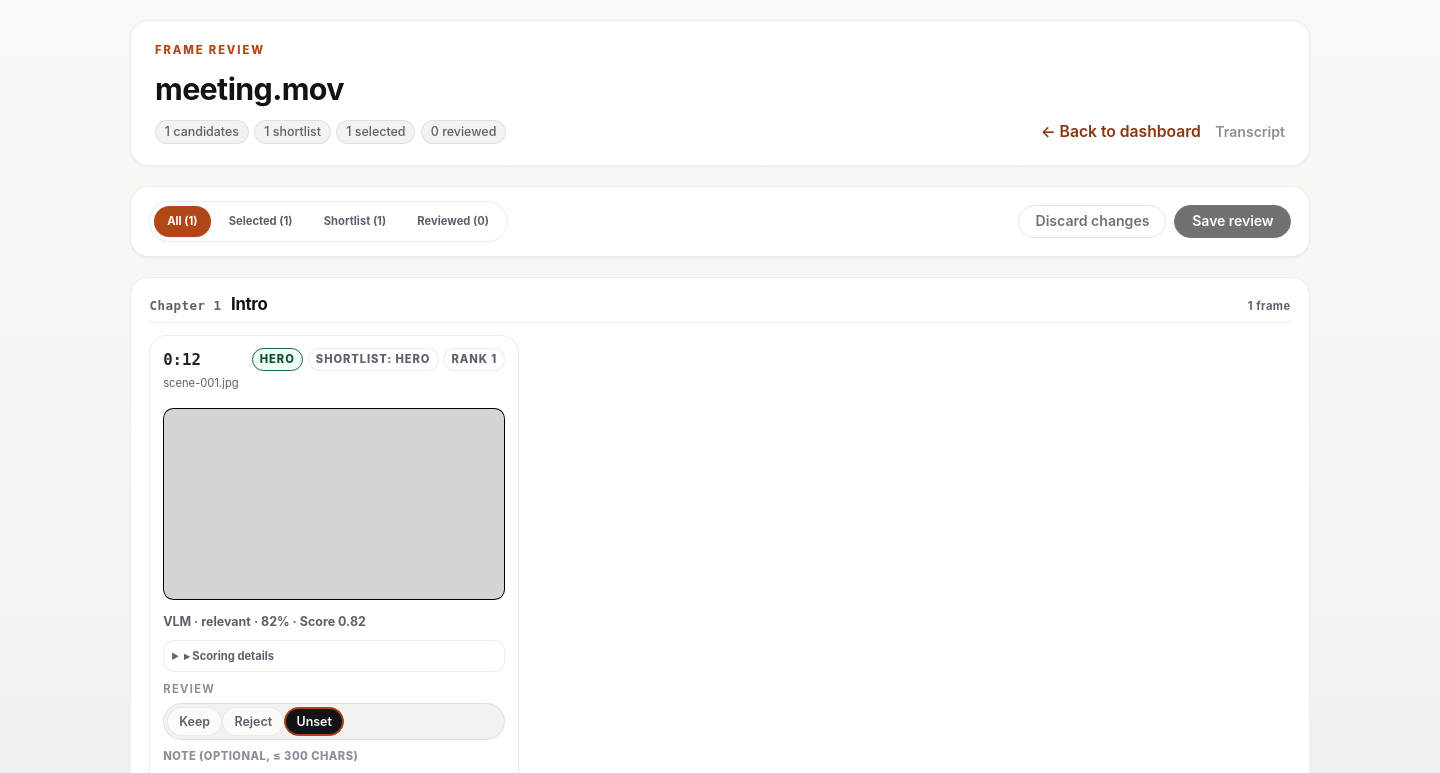
Test case: FrameReviewPage › enables Save after a decision change and POSTs to /frame-review with CSRF
Expected: the text "scene-001.jpg" is shown, [163,375,239,392]
Expected: the button "Save review" is disabled, [1174,205,1291,238]
Click the radio button labelled "Reject" at (253, 722), box [222,707,284,736]
(page scrolled)
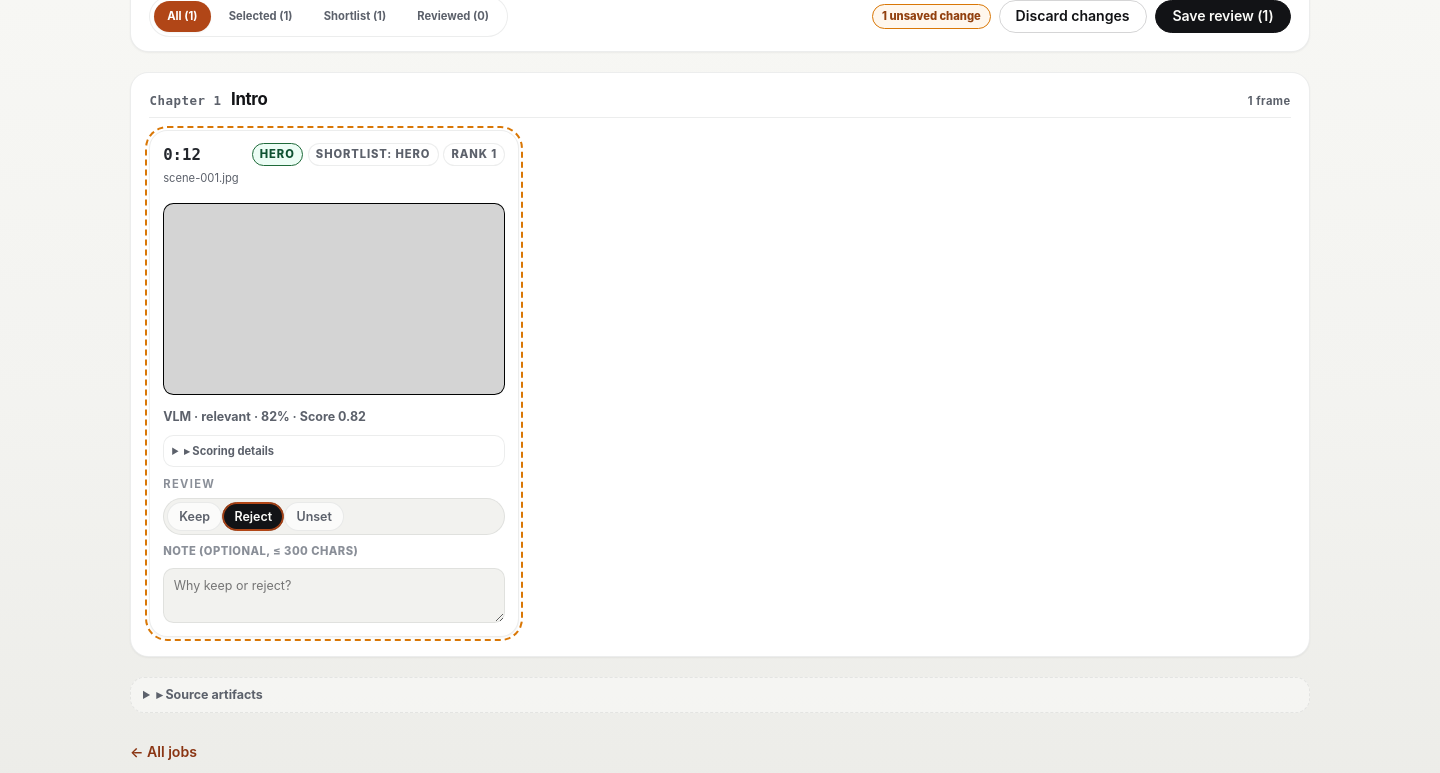
Expected: the button "Save review (1)" is enabled, [1155,0,1291,33]
Type "blurry" into the text box with placeholder "Why keep or reject?" at (334, 595), box [163,568,505,623]
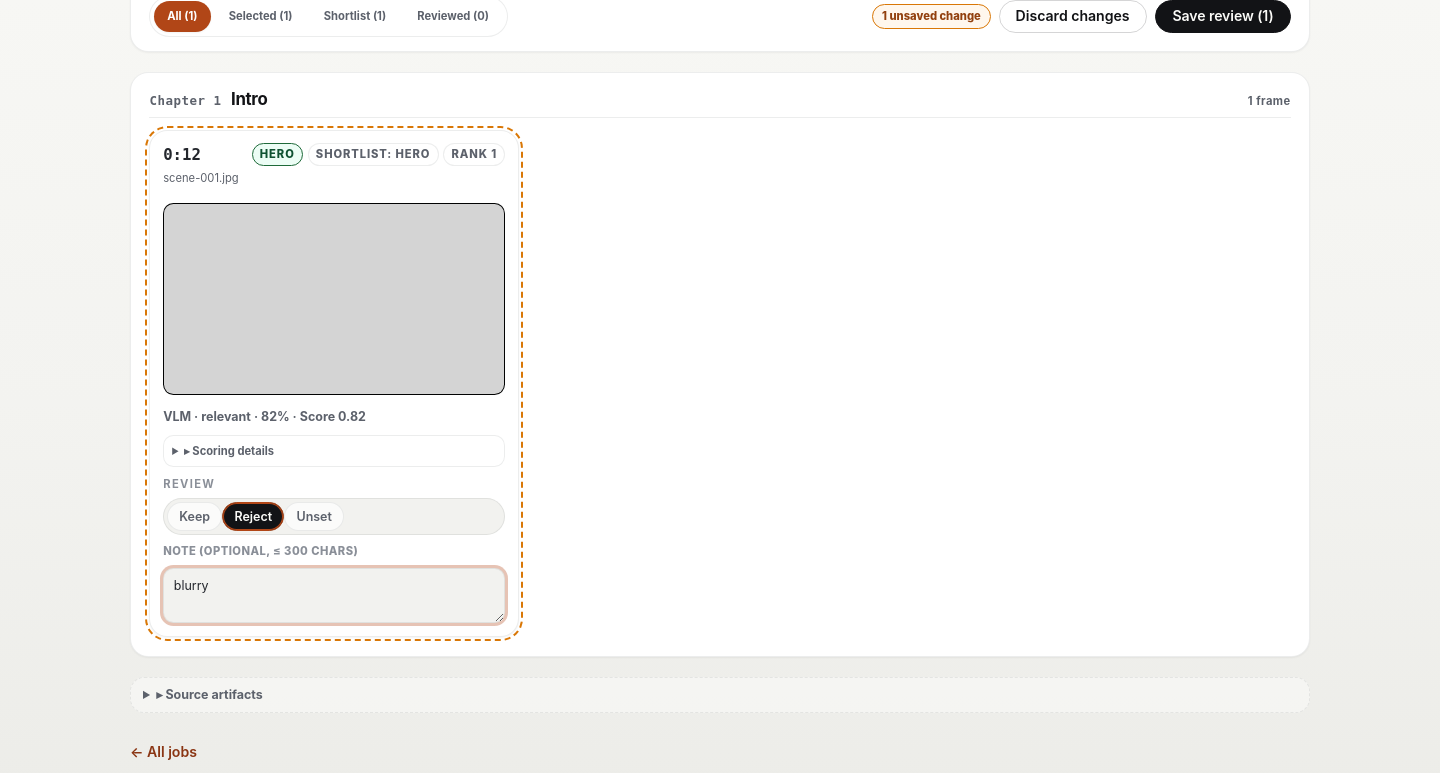
Click the button "Save review (1)" at (1223, 17), box [1155,0,1291,33]
(page scrolled)
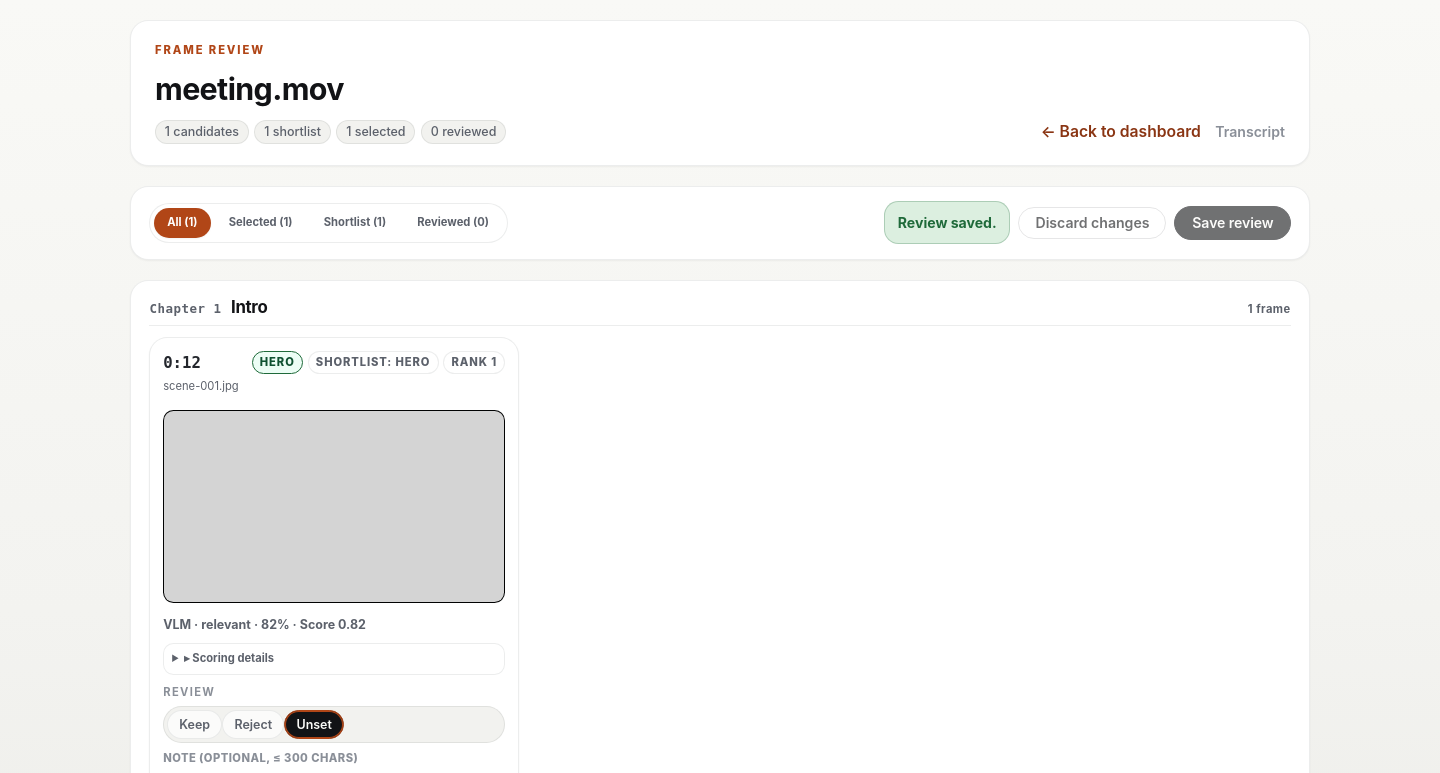
Expected: the text "Review saved." is shown, [884,202,1010,244]
